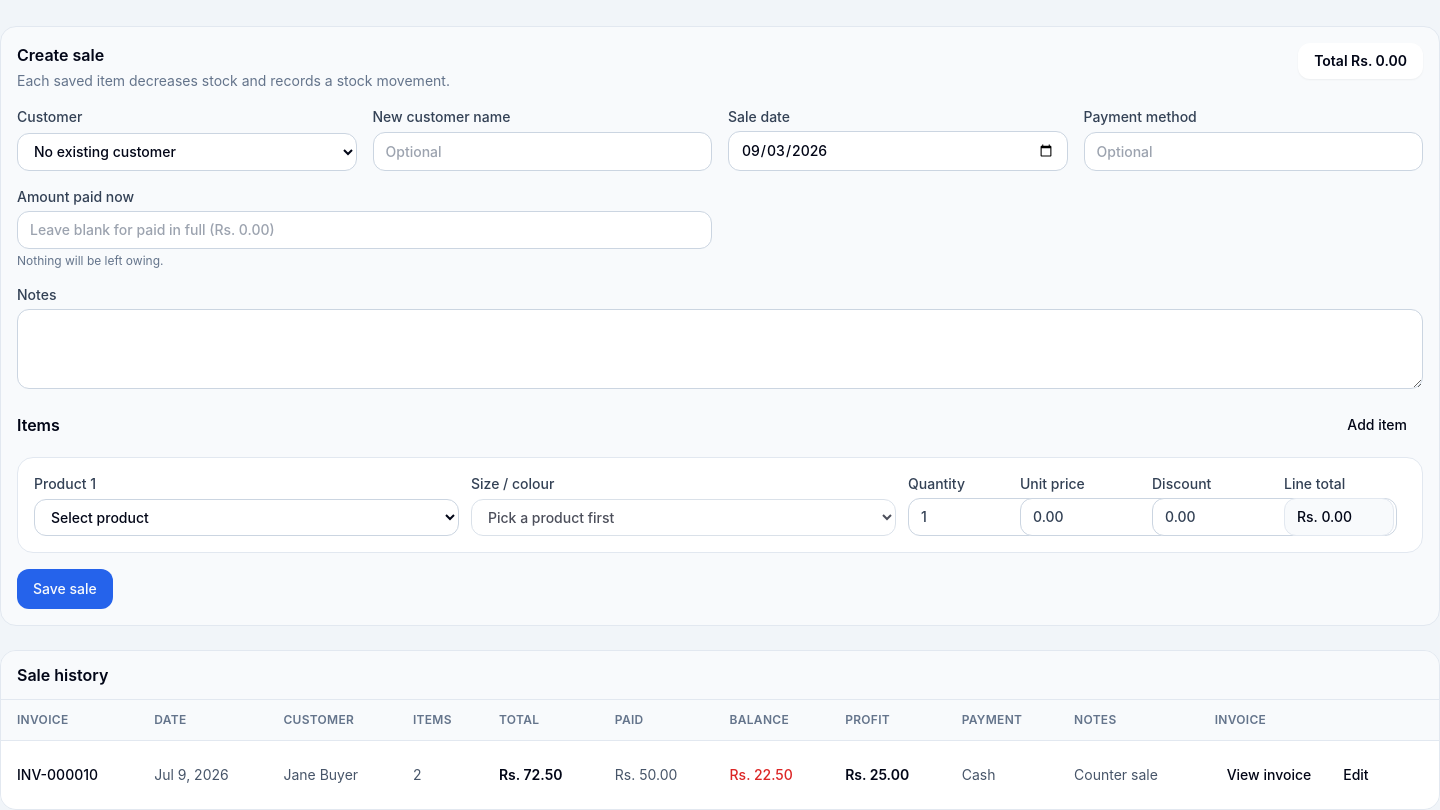
Test: SalesScreen › loads a recorded sale back into the form for editing
(page scrolled)
Expected: the text "INV-000010" is shown, x1=1 y1=740 x2=138 y2=809
Click the button "Edit" at (1356, 775), box x1=1331 y1=757 x2=1381 y2=793
(page scrolled)
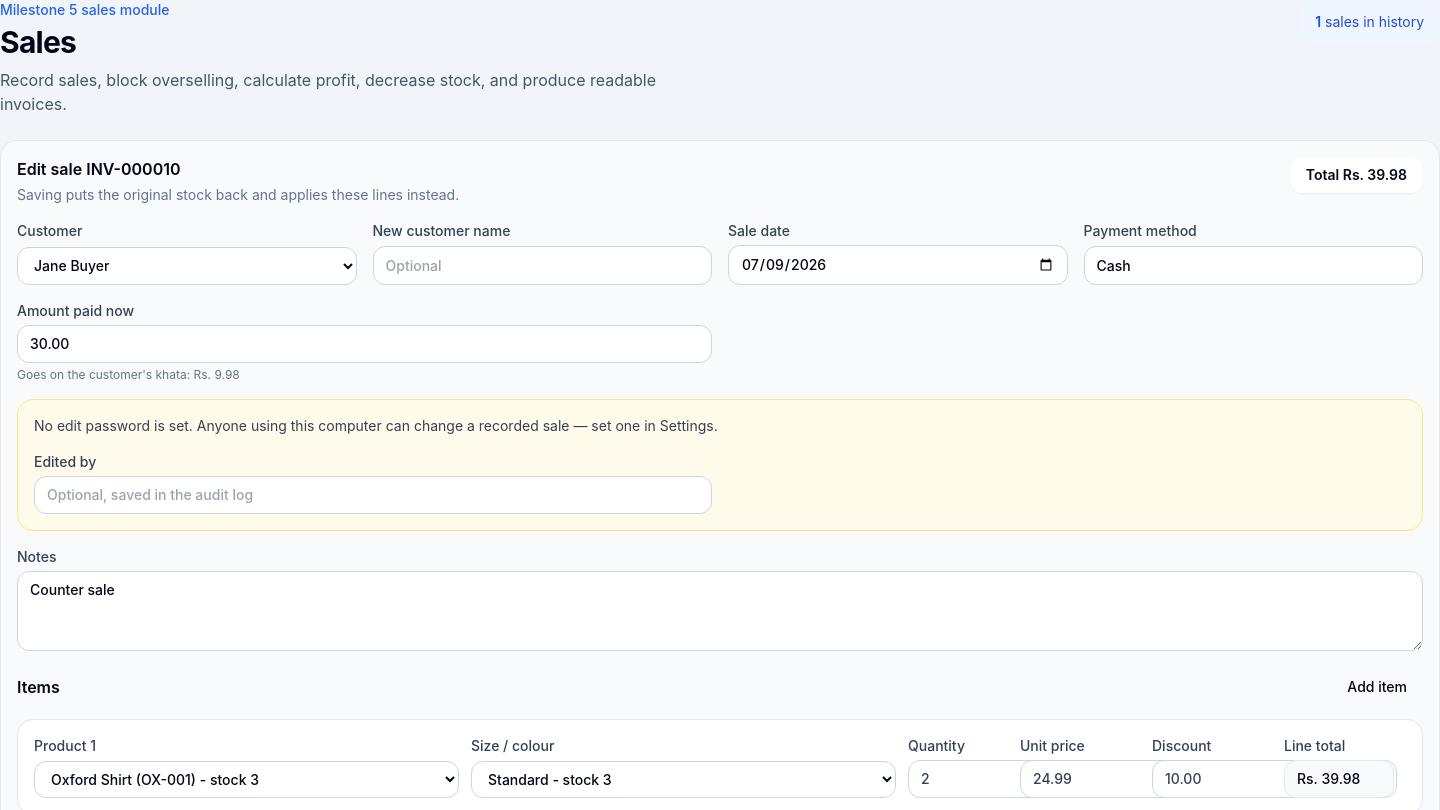
Now the heading "Edit sale INV-000010" is shown, box x1=17 y1=159 x2=180 y2=179
Now the number field labelled "Amount paid now Goes on the customer's khata: Rs. 9.98" holds "30", box x1=17 y1=325 x2=712 y2=363
Now the number field labelled "Quantity" holds "2", box x1=908 y1=760 x2=1153 y2=798
